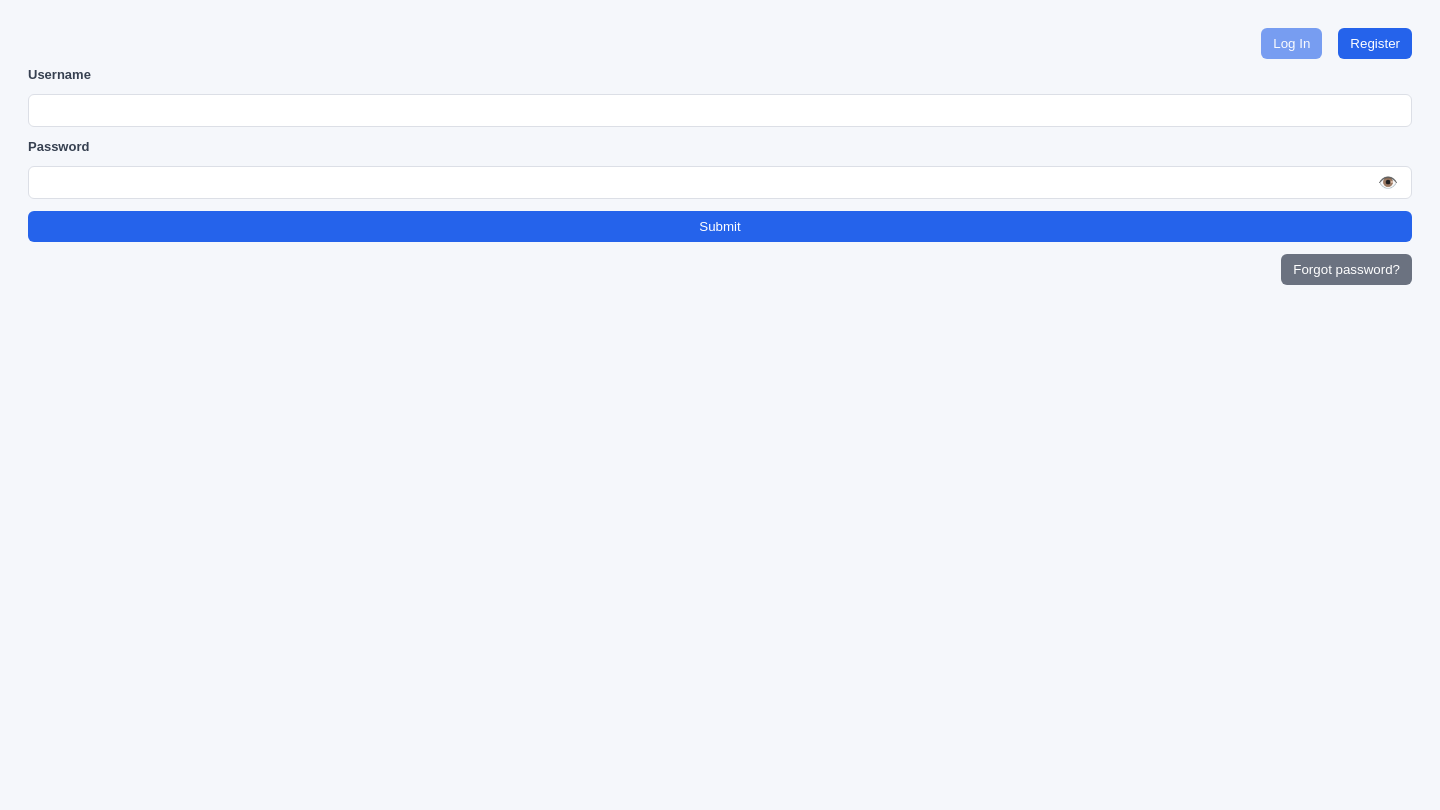
Test: Auth Component › handles forgot-password reset flow
The width and height of the screenshot is (1440, 810).
Click the button "Forgot password?": [1347, 270] box 1281,254 -> 1412,285
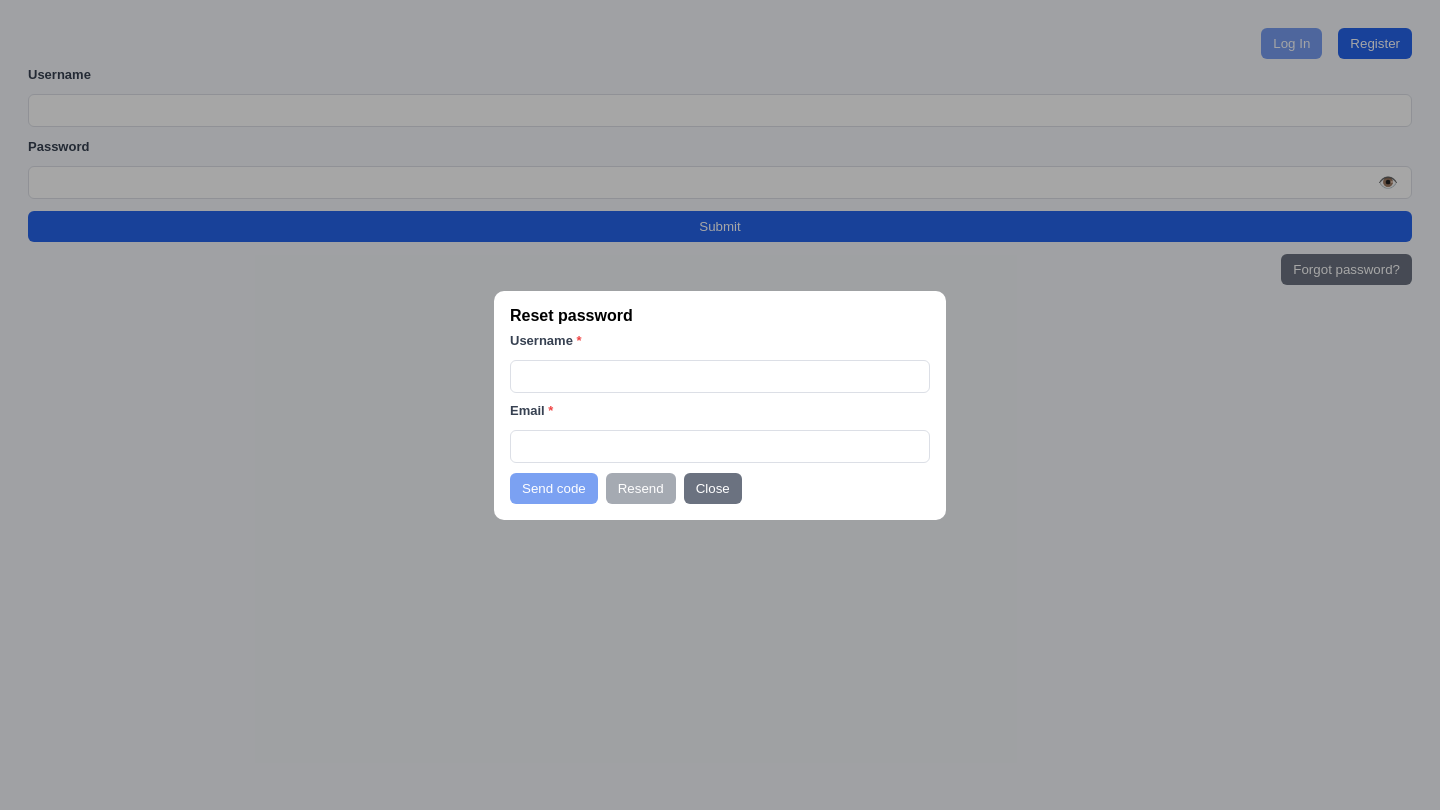
Expected: the text "Reset password" is shown, 510,306 -> 633,324
In the field labelled "Username *": [720, 376] box 510,360 -> 930,392, type "testuser"
In the field labelled "Email *": [720, 446] box 510,430 -> 930,462, type "test@example.com"
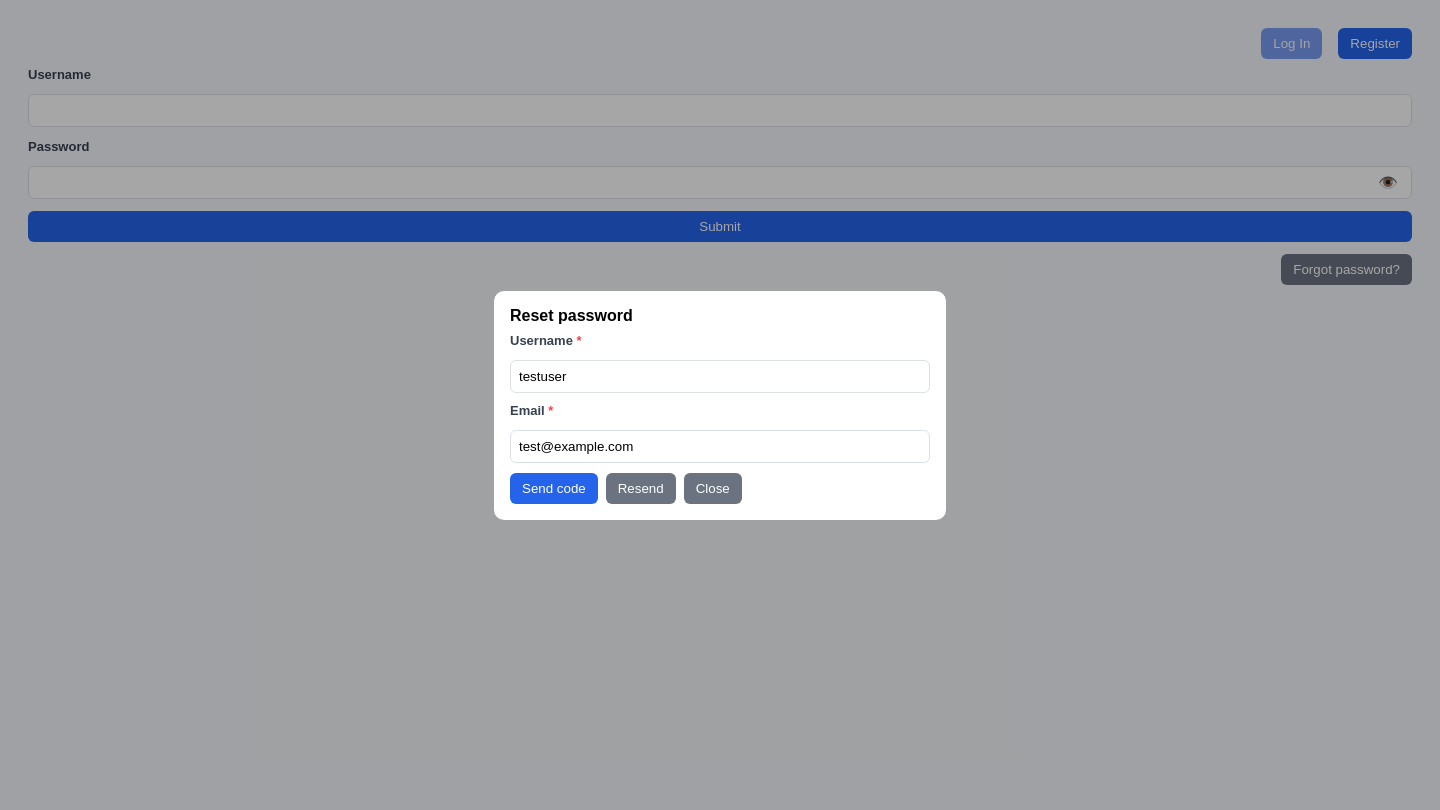
Click the button "Send code": [554, 488] box 510,472 -> 598,504
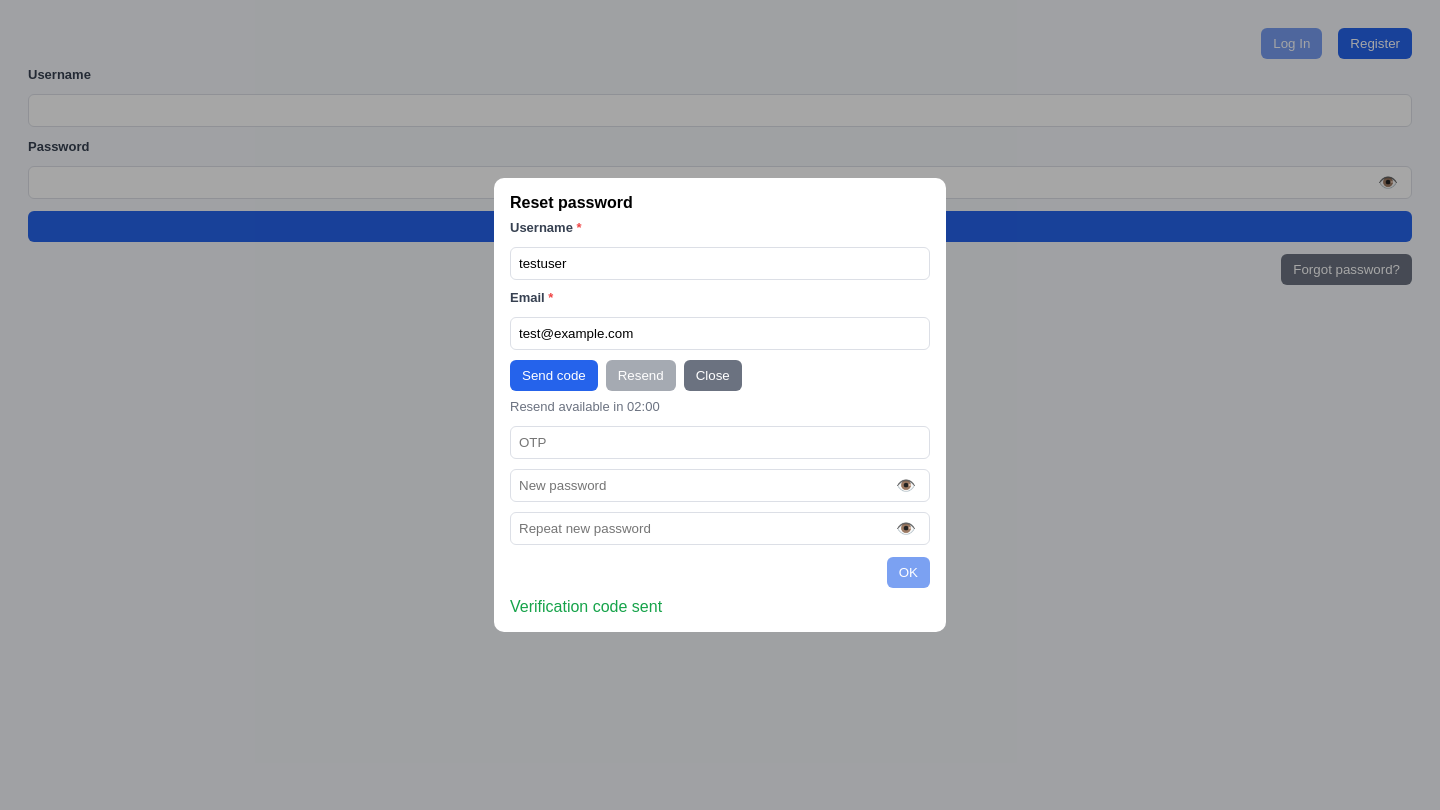
Expected: the field with placeholder "OTP" is shown
Expected: the button "OK" is disabled, 887,557 -> 930,588
In the field with placeholder "OTP": [720, 442] box 510,426 -> 930,459, type "123456"
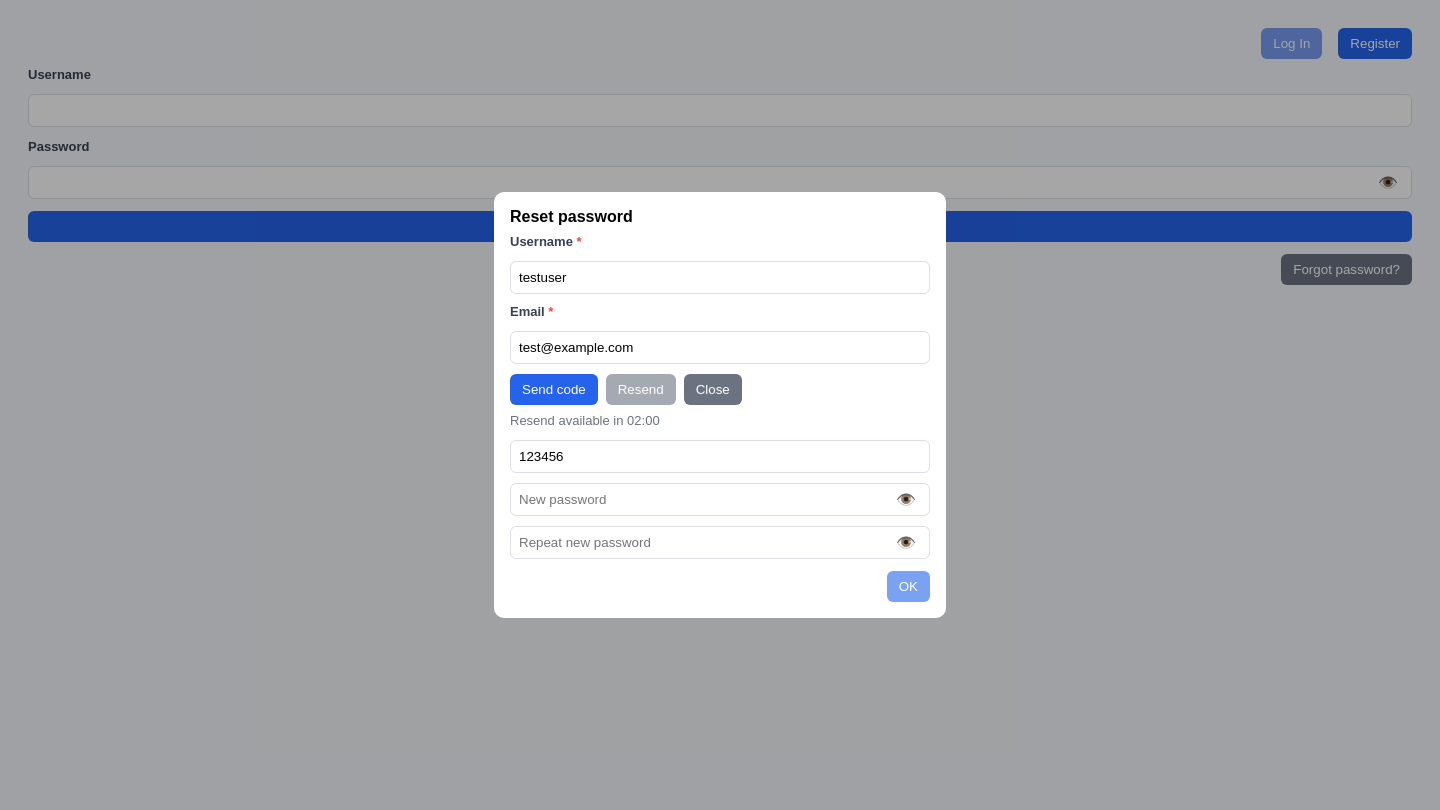
In the password field with placeholder "New password": [720, 500] box 510,483 -> 930,516, type "newpass123"
In the password field with placeholder "Repeat new password": [720, 542] box 510,526 -> 930,559, type "newpass123"
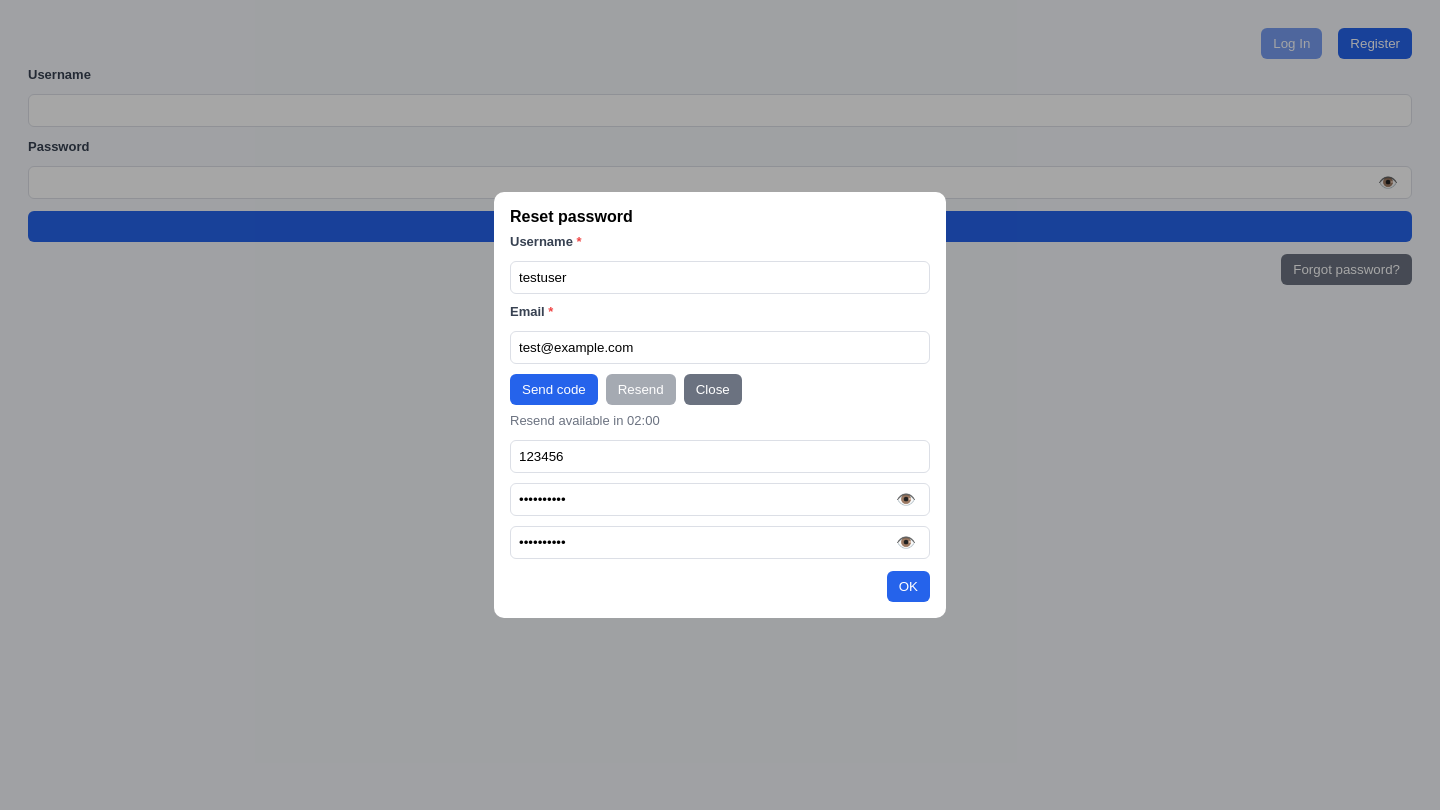
Expected: the button "OK" is enabled
Click the button "OK": [908, 586] box 887,571 -> 930,602
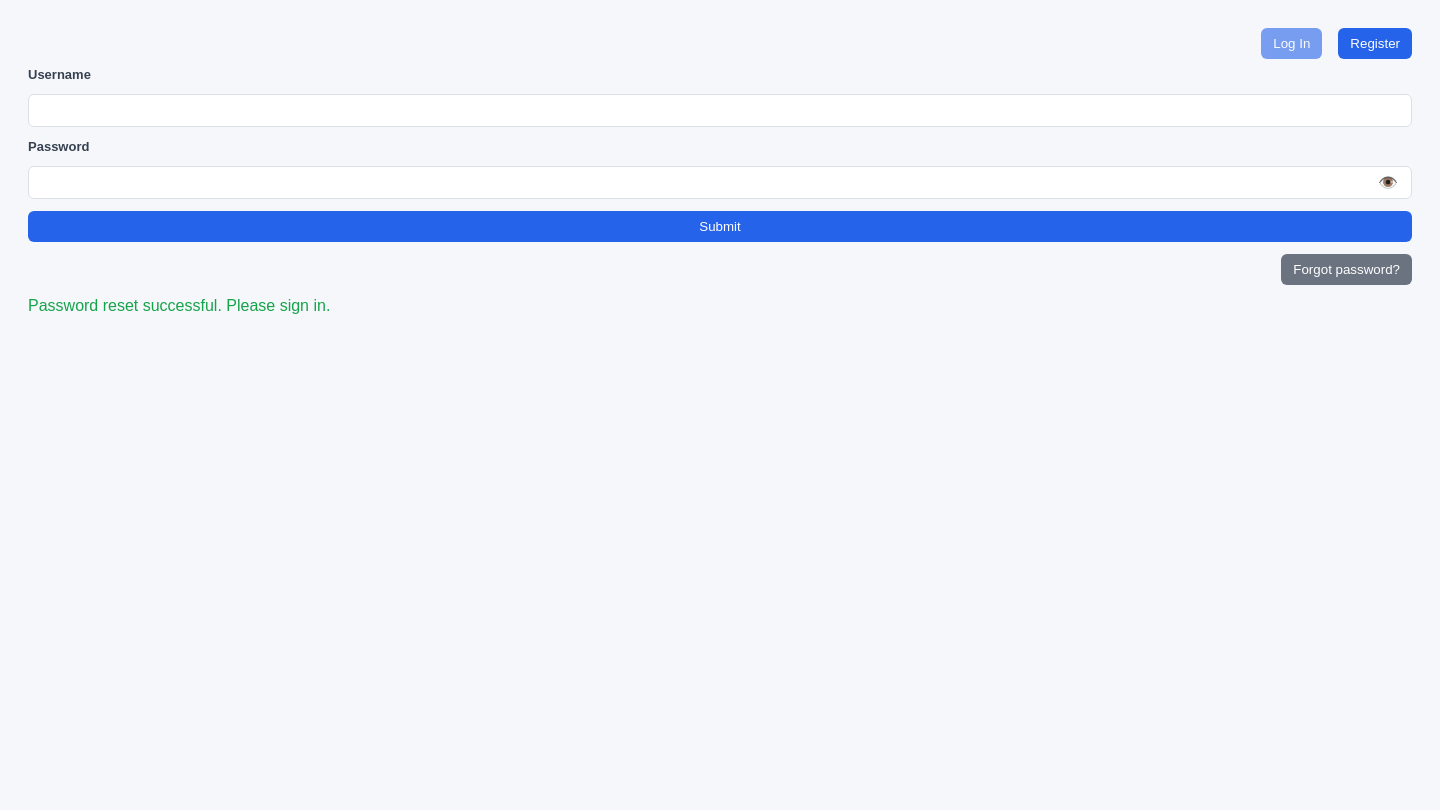
Expected: the text "Password reset successful. Please sign in." is shown, 28,297 -> 330,314
